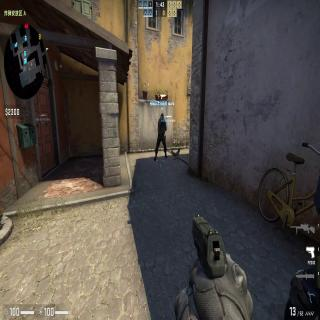CT-Body: (153, 112, 167, 161)
CT-Head: (160, 112, 164, 120)
